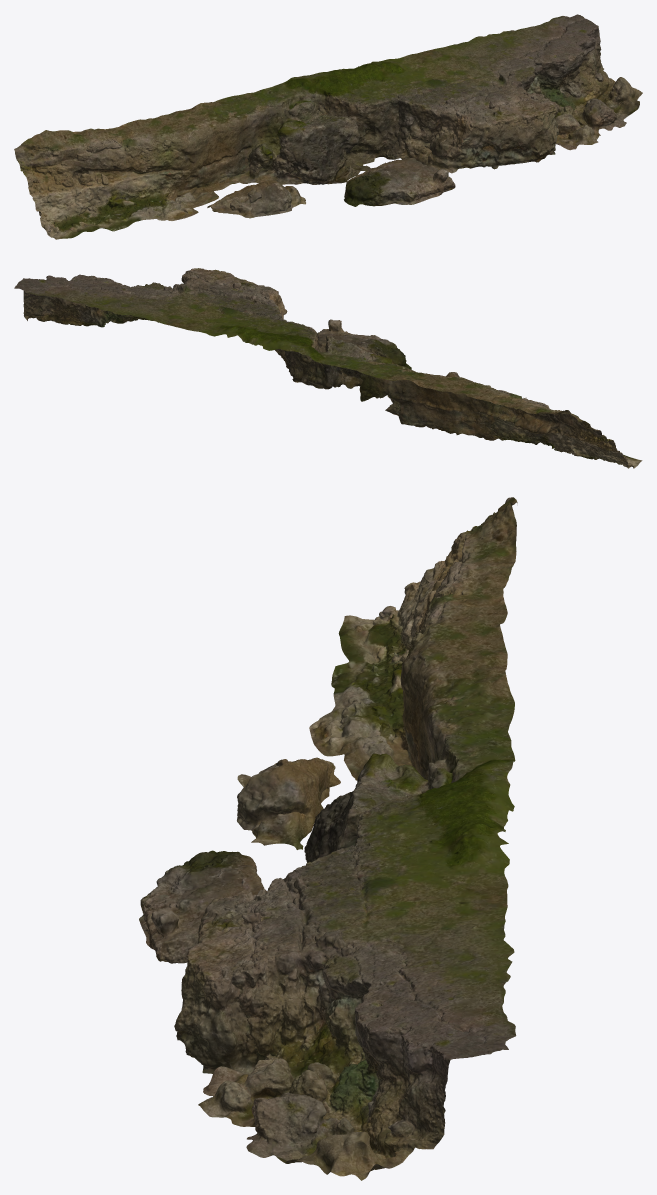
Rendered from coastal_cliff_04.glb.
3 renders of one model, top to bottom at view 1: azimuth 30°, elevation 25°; view 2: azimuth 150°, elevation 25°; view 3: azimuth 270°, elevation 25°, orthographic. The views are drawn at different scales.
Visible parts, largest first — view 1: coastal_cliff_04; view 2: coastal_cliff_04; view 3: coastal_cliff_04.
Part boxes in pixels (box(x1,y1,x2,y2)): coastal_cliff_04: box(14, 14, 642, 239); coastal_cliff_04: box(14, 268, 642, 468); coastal_cliff_04: box(139, 497, 517, 1180).
Bounding box in the file's own units: 86.77 × 11 × 24.25.
1 material, 1 textured.
